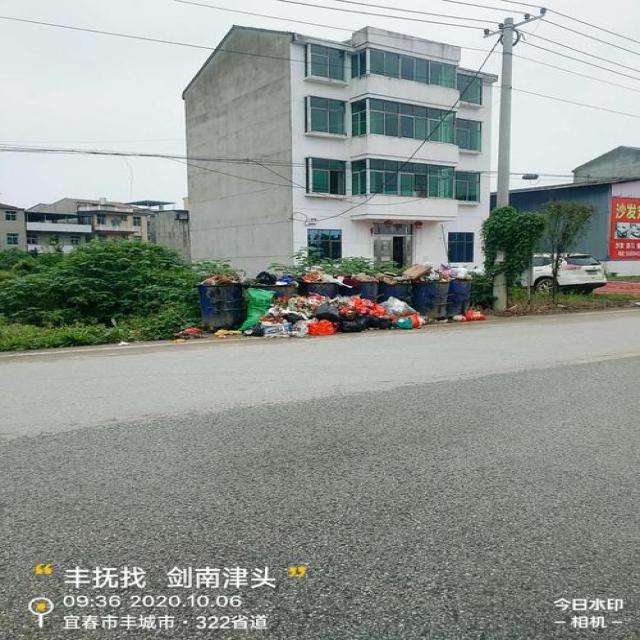garbage: (212, 287, 429, 338), (451, 307, 485, 322)
overflow: (194, 272, 242, 324), (412, 264, 447, 317), (339, 271, 375, 301), (448, 268, 471, 314), (377, 271, 411, 302), (298, 268, 337, 294)
